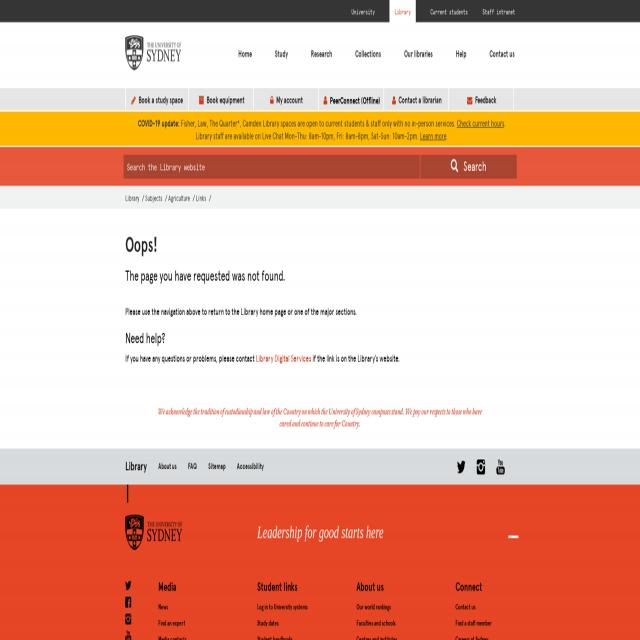button: (120, 28, 188, 76), (421, 155, 517, 178), (125, 515, 182, 550), (125, 88, 189, 111), (190, 88, 254, 111), (255, 88, 319, 111), (320, 88, 384, 111), (385, 88, 449, 111), (450, 88, 514, 111), (428, 0, 470, 23), (478, 0, 520, 22), (348, 0, 380, 23), (389, 0, 415, 24), (457, 459, 466, 474), (477, 459, 485, 474), (497, 459, 505, 474), (125, 596, 131, 608), (125, 580, 131, 591), (125, 614, 131, 625), (125, 634, 131, 638)
field: (123, 154, 420, 179)
